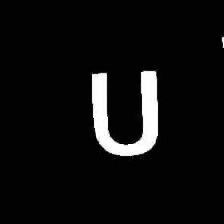LTR_U: (84, 63, 169, 161)
